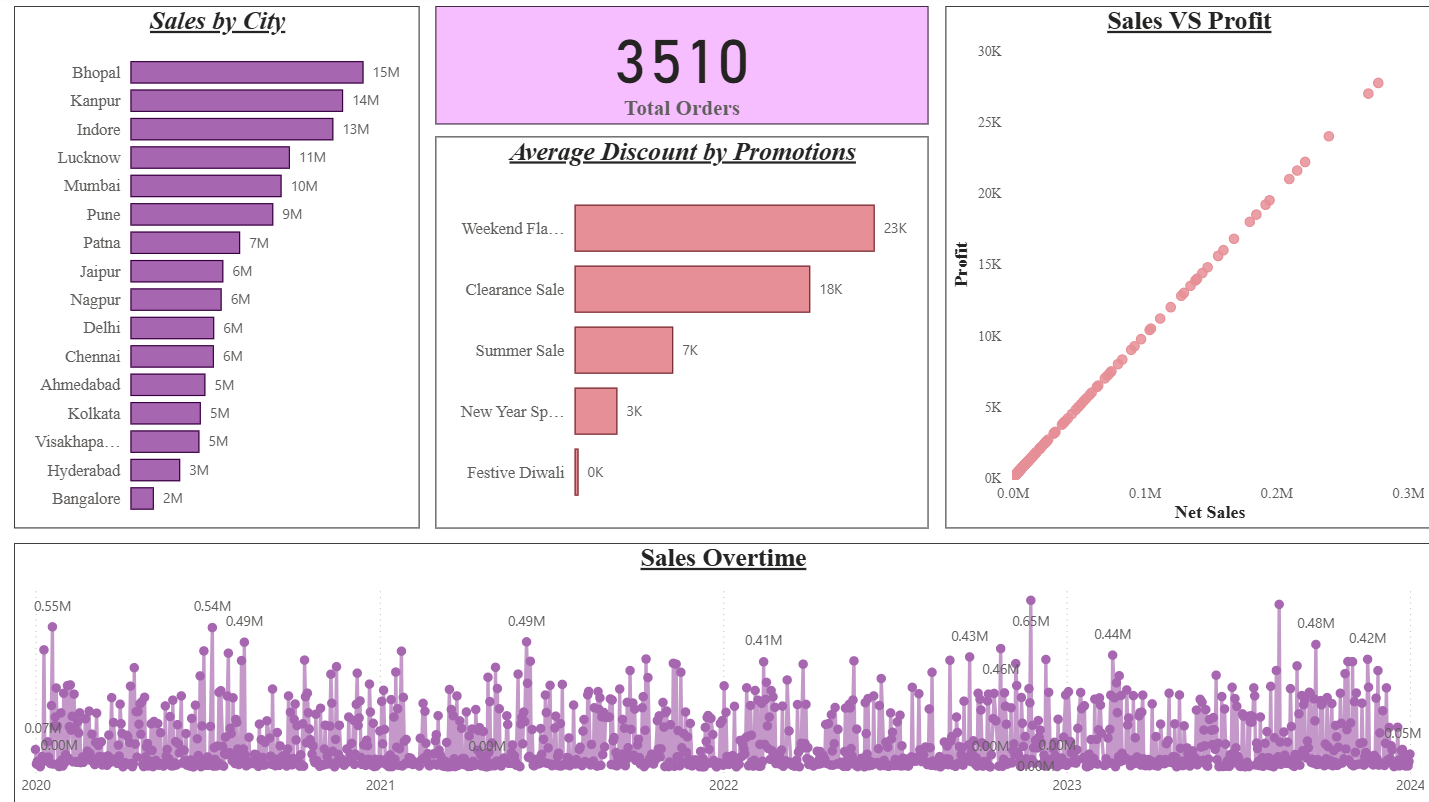

Layout of this report page (visuals, bound fields, positions):
{"tool":"powerbi","page":{"name":"Overview","canvas":[1280,720],"ordinal":0},"visuals":[{"type":"lineChart","title":"Sales Overtime","fields":{"Category":["Records.Date (dd/mm/yyyy).Variation.Date Hierarchy.Year"],"Y":["Sum(Records.Net Sales)"]},"box":[13.6,486.1,1253.8,233.2],"z":0},{"type":"scatterChart","title":"Sales VS Profit","fields":{"X":["Records.Net Sales"],"Y":["Records.Profit"]},"box":[837.4,10.6,430,461.8],"z":1000},{"type":"barChart","title":"Average Discount by Promotions","fields":{"Category":["Dim Promotion.Promotion Name"],"Y":["Avg(Records.Discount Value)"]},"box":[386.1,125.7,436.1,346.8],"z":2000},{"type":"barChart","title":"Sales by City","fields":{"Category":["Dim Customers.City"],"Y":["Sum(Records.Net Sales)"]},"box":[13.6,10.6,358.9,461.8],"z":3000},{"type":"card","fields":{"Values":["Count(Records.Index)"]},"box":[386.1,10.6,436.1,104.5],"z":4000}]}

Visuals, with their boxes in screenshot pixels (x1, y1, x2, y2), scaled from the page's 1280x720 canvas onto the 1429x802 screenshot:
"Sales Overtime" lineChart: (15,541,1415,801)
"Sales VS Profit" scatterChart: (935,12,1415,526)
"Average Discount by Promotions" barChart: (431,140,918,526)
"Sales by City" barChart: (15,12,416,526)
card - Count(Records.Index): (431,12,918,128)
